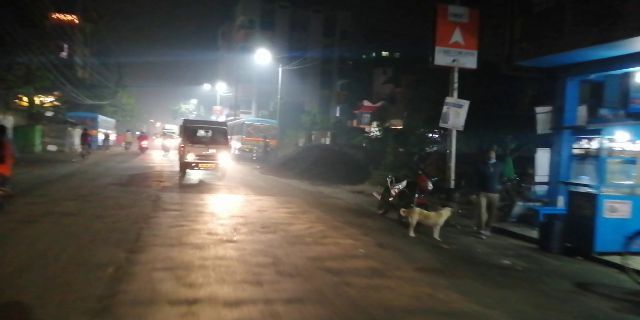Minitruck: (179, 116, 236, 182)
